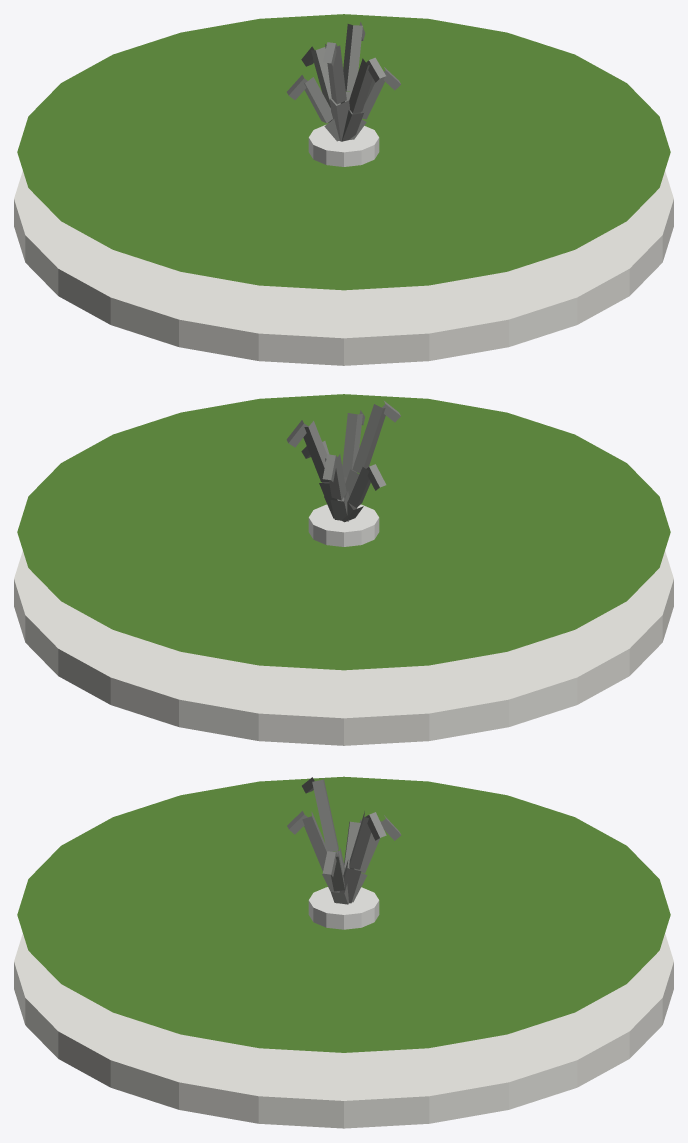
File: rb_sunplaza.glb
3 renders of one model, top to bottom at view 1: azimuth 30°, elevation 25°; view 2: azimuth 150°, elevation 25°; view 3: azimuth 270°, elevation 25°, orthographic.
Parts seen in each view (by area): view 1: rb_sunplaza_lod0; view 2: rb_sunplaza_lod0; view 3: rb_sunplaza_lod0.
Boxes of the visible parts, x1,y1,x2,y2 form: rb_sunplaza_lod0: [14, 14, 673, 365]; rb_sunplaza_lod0: [14, 394, 673, 745]; rb_sunplaza_lod0: [14, 776, 673, 1128].
Size of what is drawn, in the model's own units: 41.2 by 13.81 by 41.2.
